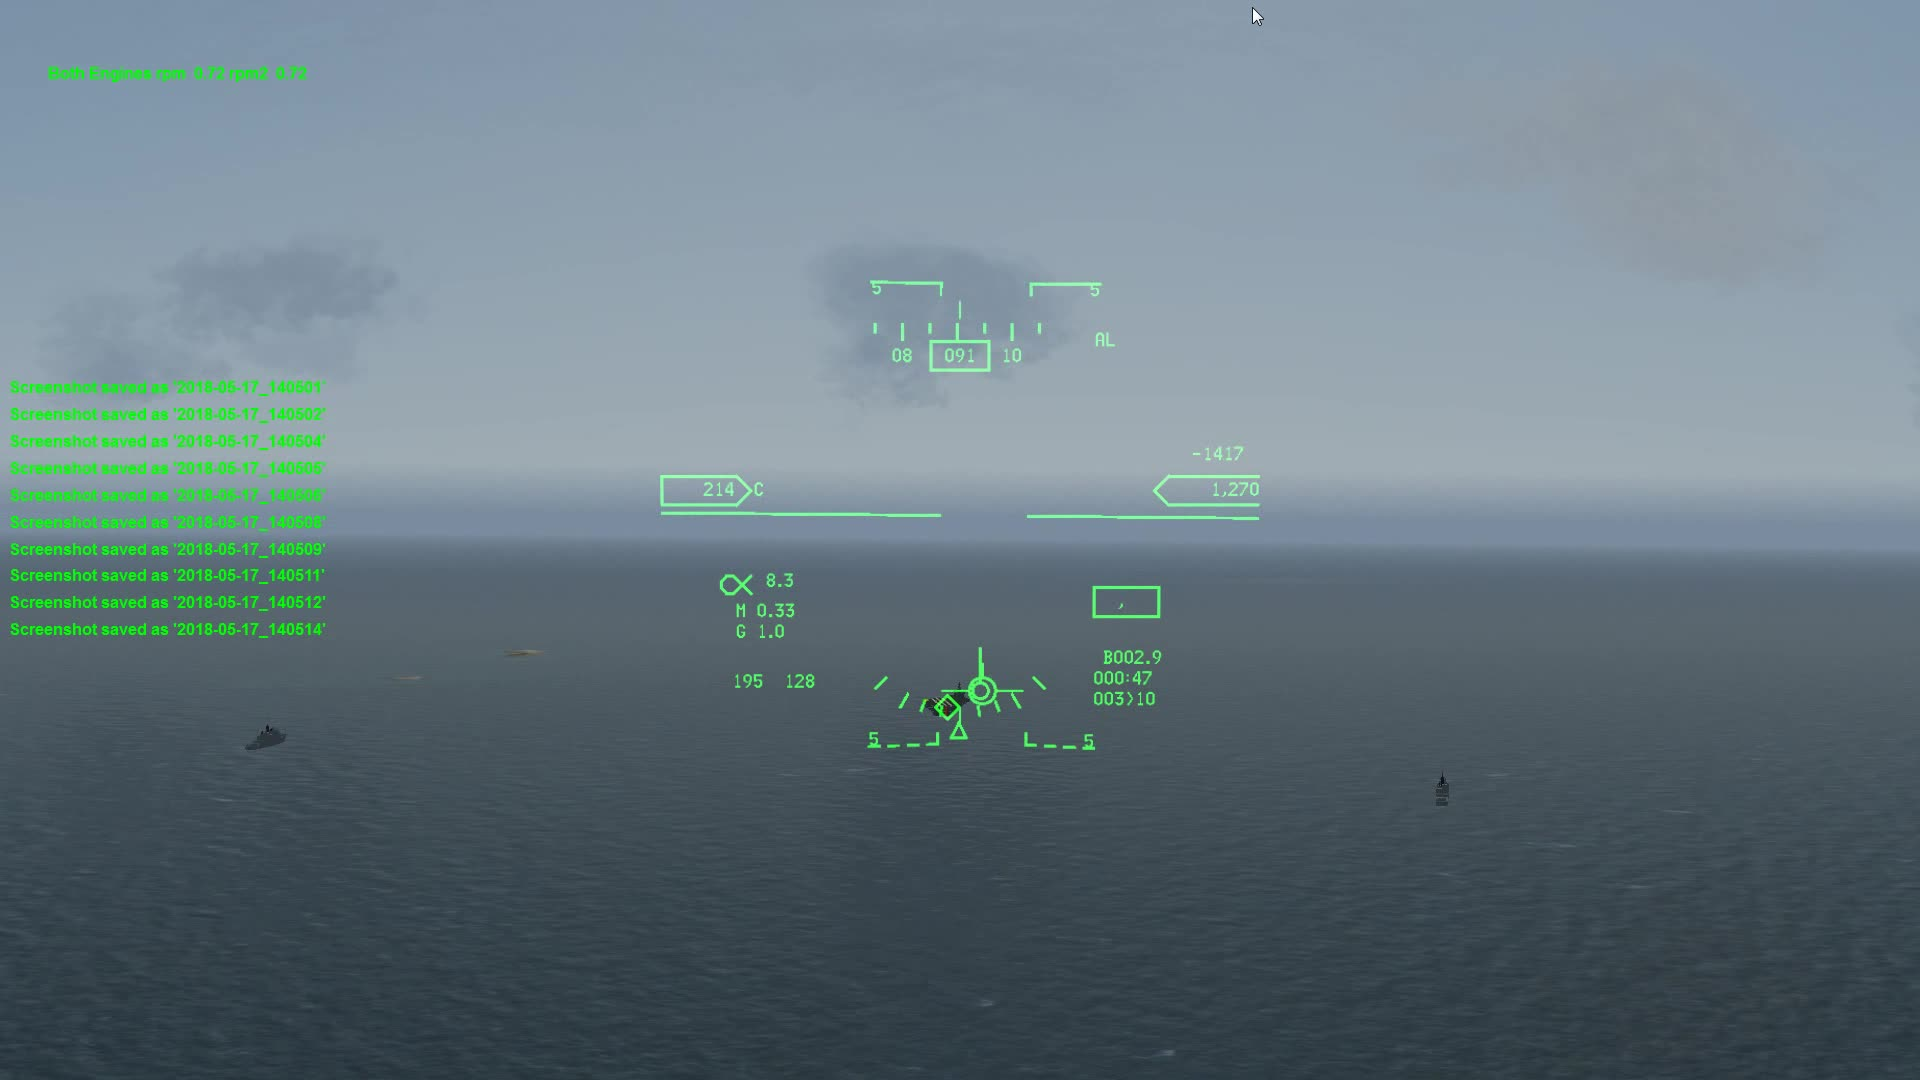speed vector: (945, 649, 1034, 709)
